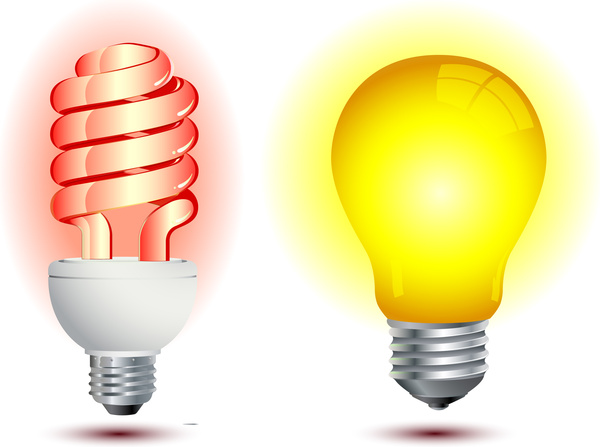Nonrec_Glass: (326, 44, 550, 410), (33, 41, 229, 419)
